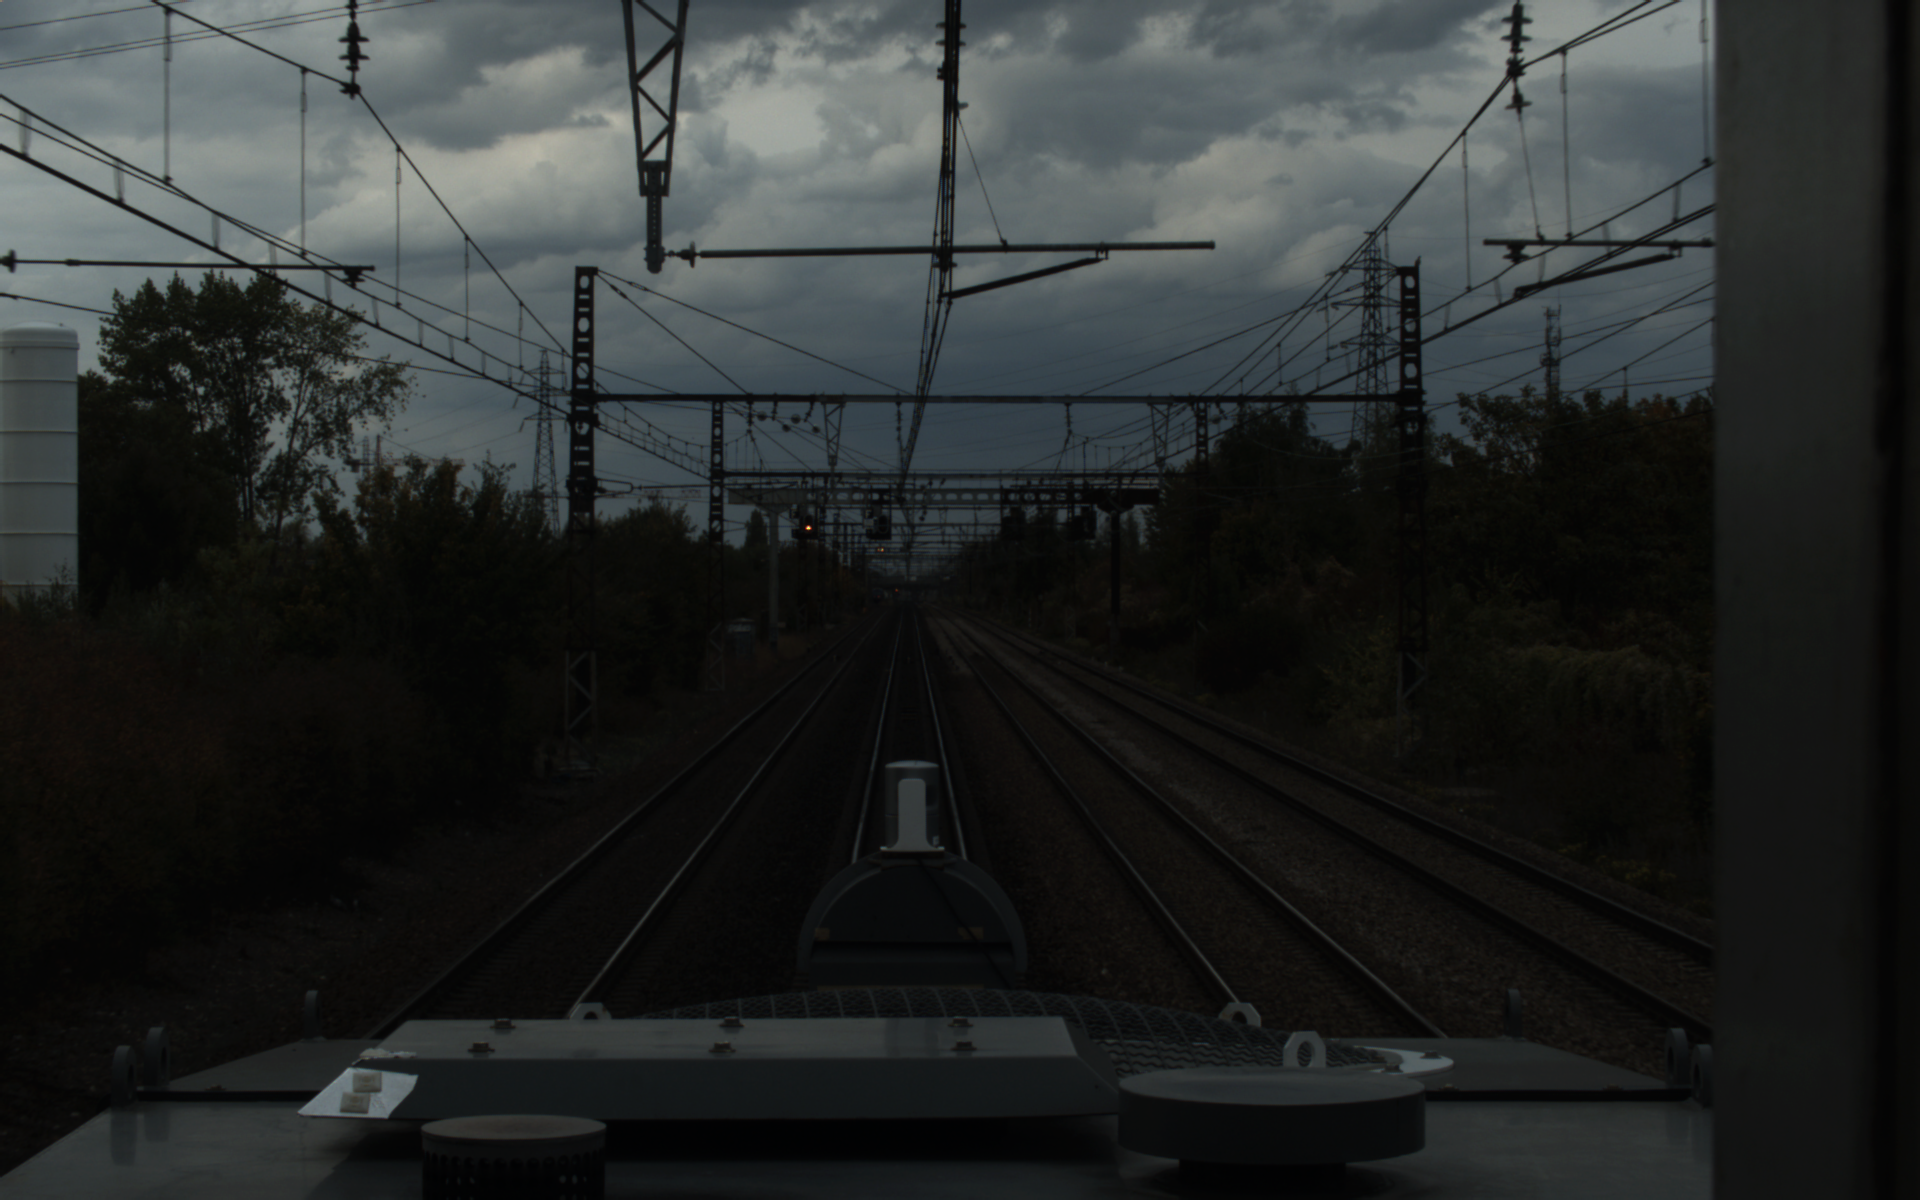Blinking: (875, 512, 890, 535), (800, 513, 816, 536)
